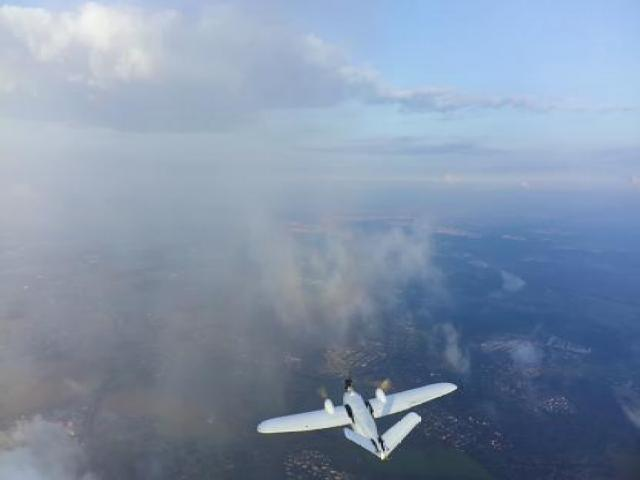uav: (255, 377, 460, 462)
